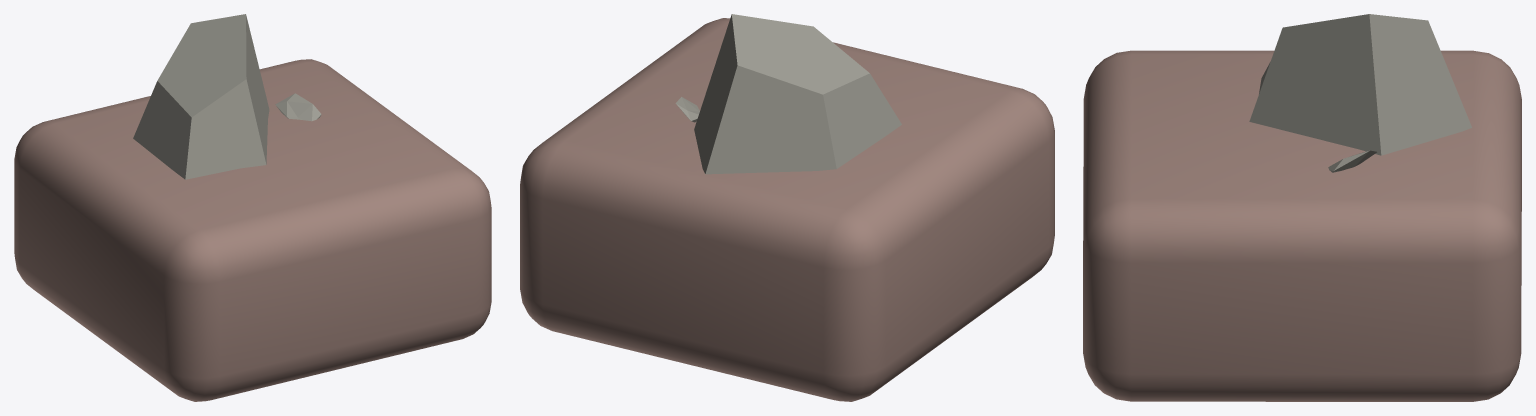
Rendered from trap1.fbx.
3 renders of one model, left to right at view 1: azimuth 30°, elevation 25°; view 2: azimuth 150°, elevation 25°; view 3: azimuth 270°, elevation 25°, orthographic. The views are drawn at different scales.
Parts seen in each view (by area): view 1: Cube.031; view 2: Cube.031; view 3: Cube.031.
Boxes of the visible parts, box(x1,y1,x2,y2) form: Cube.031: box(14, 14, 491, 401); Cube.031: box(520, 14, 1054, 401); Cube.031: box(1083, 14, 1521, 401).
Size of the model in its own units: 200 by 163 by 200.
